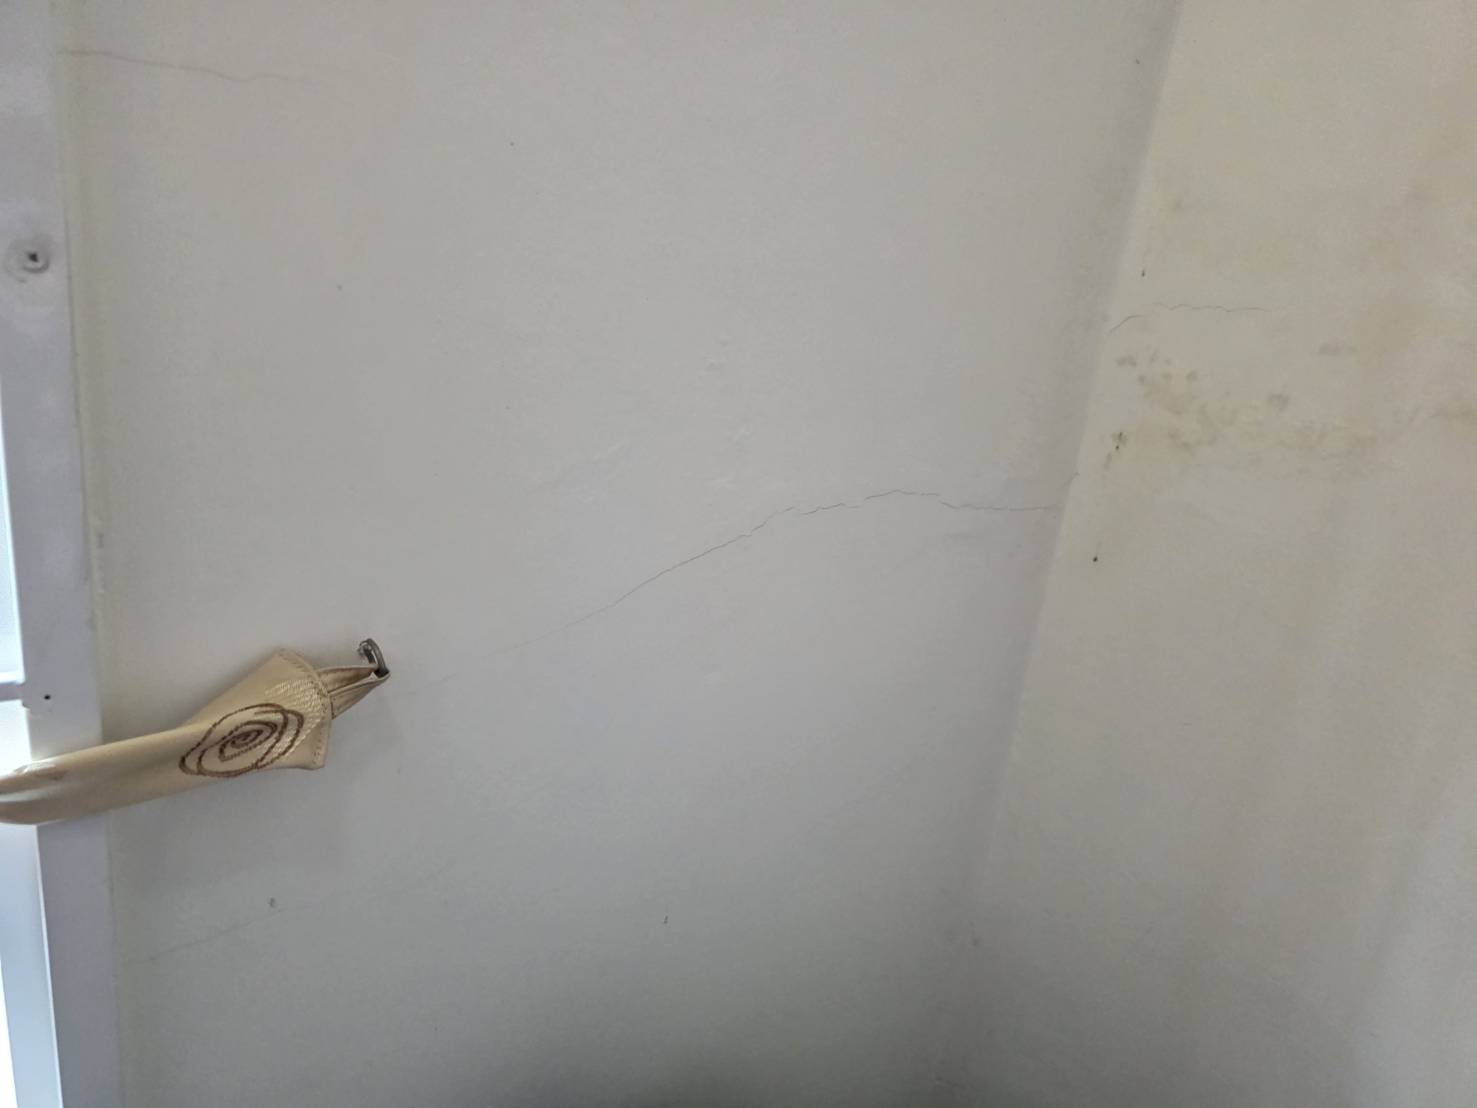Low: (433, 439, 1068, 732)
